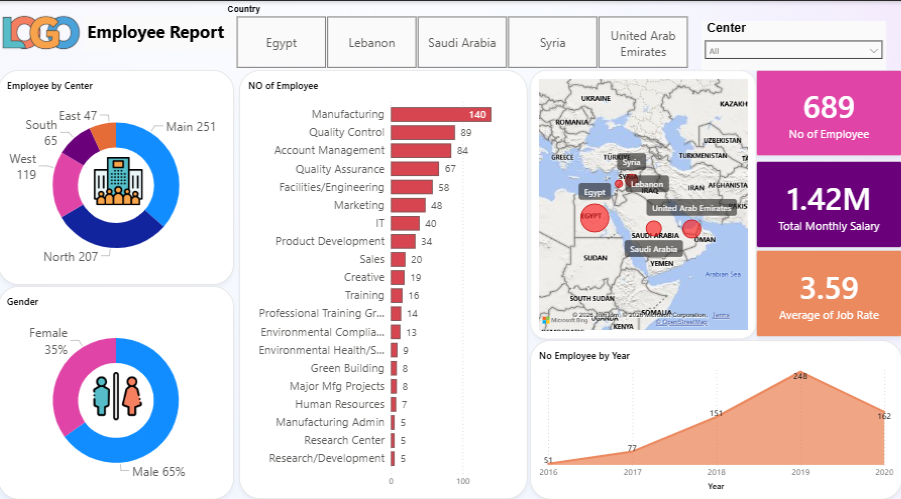

What the dashboard file says about the page in this screenshot:
{"tool":"powerbi","page":{"name":"Page 1","canvas":[1280,720],"ordinal":0},"visuals":[{"type":"clusteredBarChart","title":"NO of Employee","fields":{"Category":["EmpTable.Department"],"Y":["CountNonNull(EmpTable.No)"]},"box":[341,106.9,408.2,613.1],"z":0},{"type":"donutChart","title":"Employee by Center","fields":{"Category":["EmpTable.Center"],"Y":["CountNonNull(EmpTable.No)"]},"box":[0,107.5,334.3,307.4],"z":1000},{"type":"donutChart","title":"Gender","fields":{"Category":["EmpTable.Gender"],"Y":["CountNonNull(EmpTable.Gender)"]},"box":[0,415,334,305],"z":2000},{"type":"map","fields":{"Category":["EmpTable.Country"],"Size":["Sum(EmpTable.No)"]},"box":[752.5,107.5,320.8,384.7],"z":3000},{"type":"areaChart","title":"No Employee by Year","fields":{"Category":["EmpTable.Start Date.Variation.Date Hierarchy.Year"],"Y":["CountNonNull(EmpTable.No)"]},"box":[752.5,492.2,527.5,228.5],"z":4000},{"type":"card","fields":{"Values":["CountNonNull(EmpTable.No)"]},"box":[1073.4,107.5,206.6,122.6],"z":5000},{"type":"card","fields":{"Values":["Sum(EmpTable.Monthly Salary)"]},"box":[1073.2,237.4,206.8,123.8],"z":6000},{"type":"card","fields":{"Values":["Avg(EmpTable.Job Rate)"]},"box":[1073.2,364.5,206.8,123.8],"z":7000},{"type":"slicer","fields":{"Values":["EmpTable.Country"]},"box":[317,13.6,678.1,93.2],"z":8000},{"type":"slicer","fields":{"Values":["EmpTable.Center"]},"box":[995.2,37.3,261.1,69.5],"z":9000},{"type":"textbox","box":[120.9,29.4,214.2,50.1],"z":10000},{"type":"image","box":[0,0,120.9,107.1],"z":11000},{"type":"image","box":[112.3,231.5,115.7,69.1],"z":12000},{"type":"image","box":[122.6,538.9,93.3,69.1],"z":12001}]}

Visuals, with their boxes in screenshot pixels (x1, y1, x2, y2), scaled from the page's 1280x720 canvas onto the 901x499 screenshot:
"NO of Employee" clusteredBarChart: locate(240, 74, 527, 498)
"Employee by Center" donutChart: locate(0, 75, 235, 288)
"Gender" donutChart: locate(0, 288, 235, 498)
map - EmpTable.Country x Sum(EmpTable.No): locate(530, 75, 756, 341)
"No Employee by Year" areaChart: locate(530, 341, 900, 498)
card - CountNonNull(EmpTable.No): locate(756, 75, 900, 159)
card - Sum(EmpTable.Monthly Salary): locate(755, 165, 900, 250)
card - Avg(EmpTable.Job Rate): locate(755, 253, 900, 338)
slicer - EmpTable.Country: locate(223, 9, 700, 74)
slicer - EmpTable.Center: locate(701, 26, 884, 74)
textbox: locate(85, 20, 236, 55)
image: locate(0, 0, 85, 74)
image: locate(79, 160, 160, 208)
image: locate(86, 373, 152, 421)
